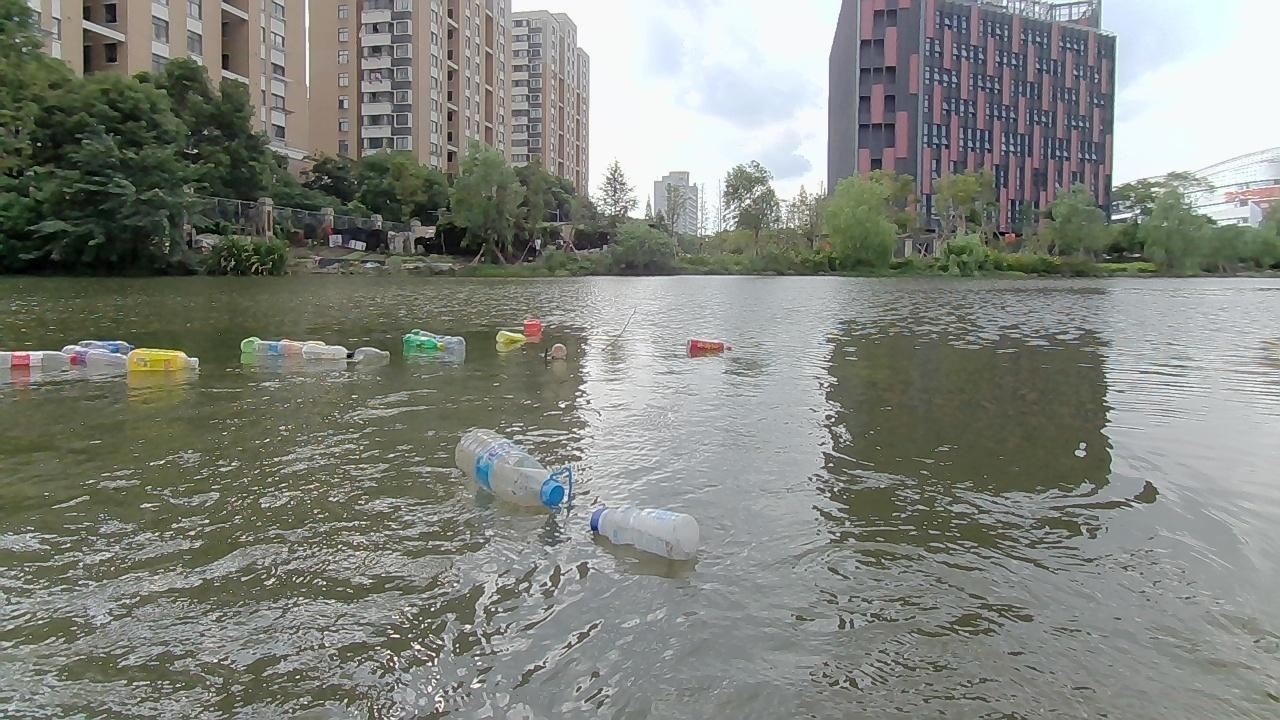bottle: (441, 421, 571, 508), (583, 502, 700, 557), (2, 351, 77, 376), (66, 344, 126, 372), (680, 332, 730, 361), (129, 350, 184, 370), (78, 339, 137, 357), (304, 340, 350, 363), (239, 337, 285, 356), (259, 343, 301, 362), (494, 327, 529, 349), (433, 335, 466, 352), (352, 347, 389, 362), (405, 332, 439, 348), (519, 317, 549, 332), (552, 339, 566, 359)
